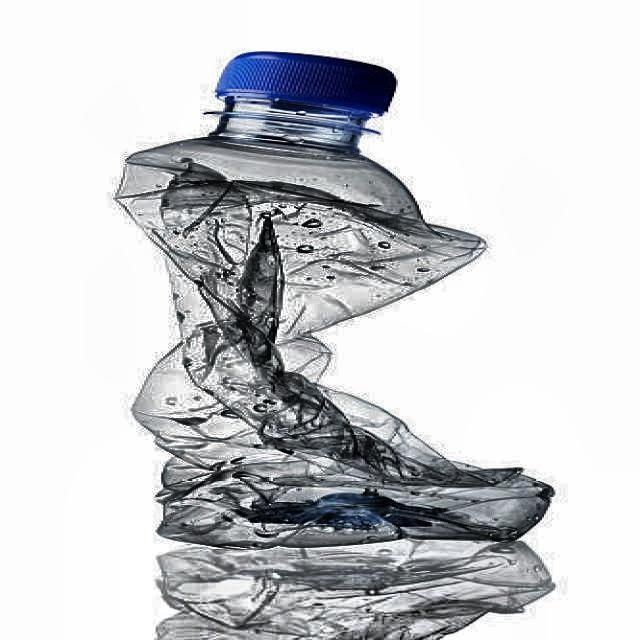plastic: (115, 52, 556, 550)
